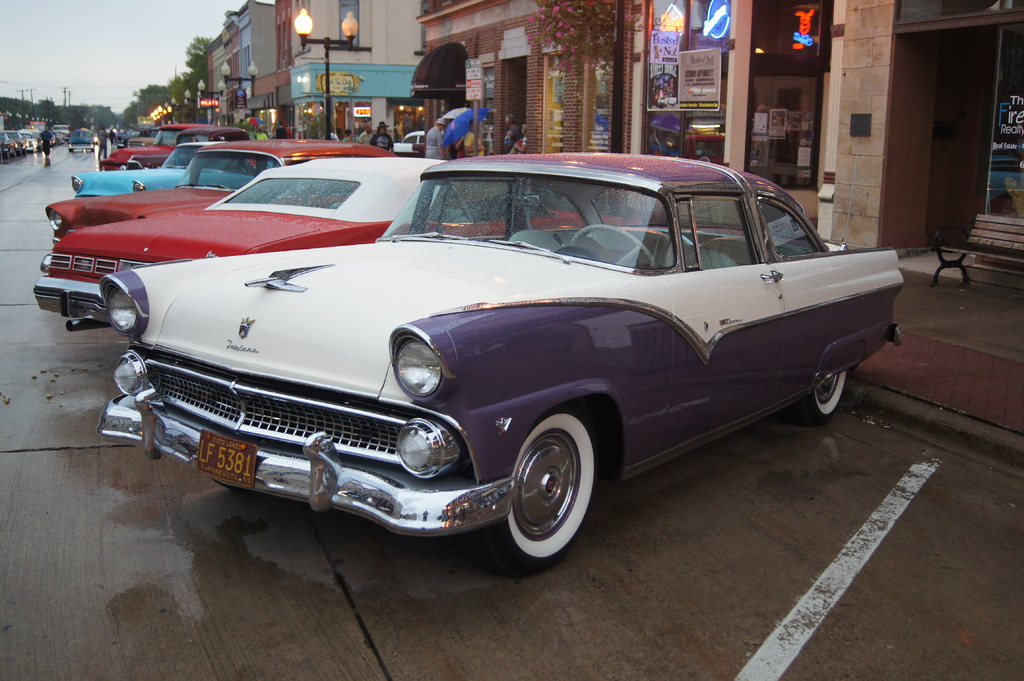mobil: (119, 152, 909, 525)
